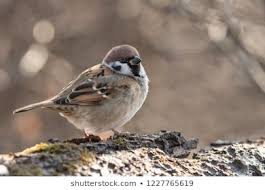home_sparrow: (10, 37, 159, 141)
